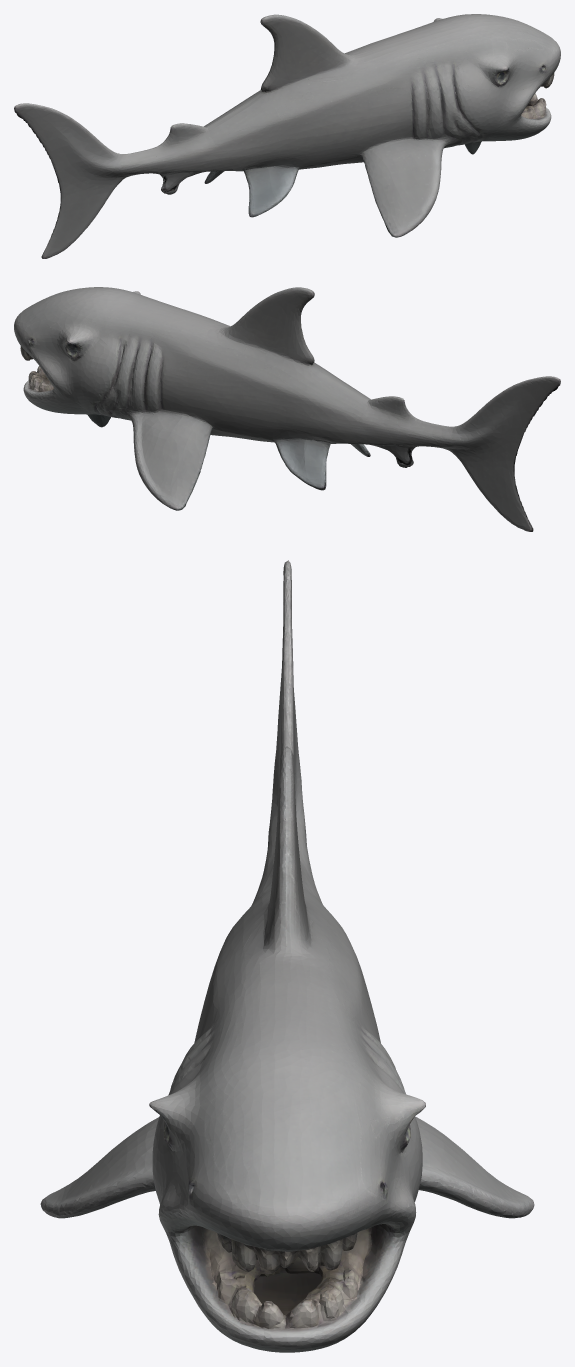
The picture shows the model from 3 angles, top to bottom: view 1: azimuth 30°, elevation 25°; view 2: azimuth 150°, elevation 25°; view 3: azimuth 270°, elevation 25°; orthographic projection. The views are drawn at different scales.
Parts seen in each view (by area): view 1: world; view 2: world; view 3: world.
Boxes of the visible parts, x1,y1,x2,y2 form: world: [14, 14, 560, 258]; world: [14, 287, 560, 531]; world: [40, 560, 534, 1352].
Bounding box in the file's own units: 0.9996 × 0.3419 × 0.3943.
Materials: 1 (1 with a texture image).
